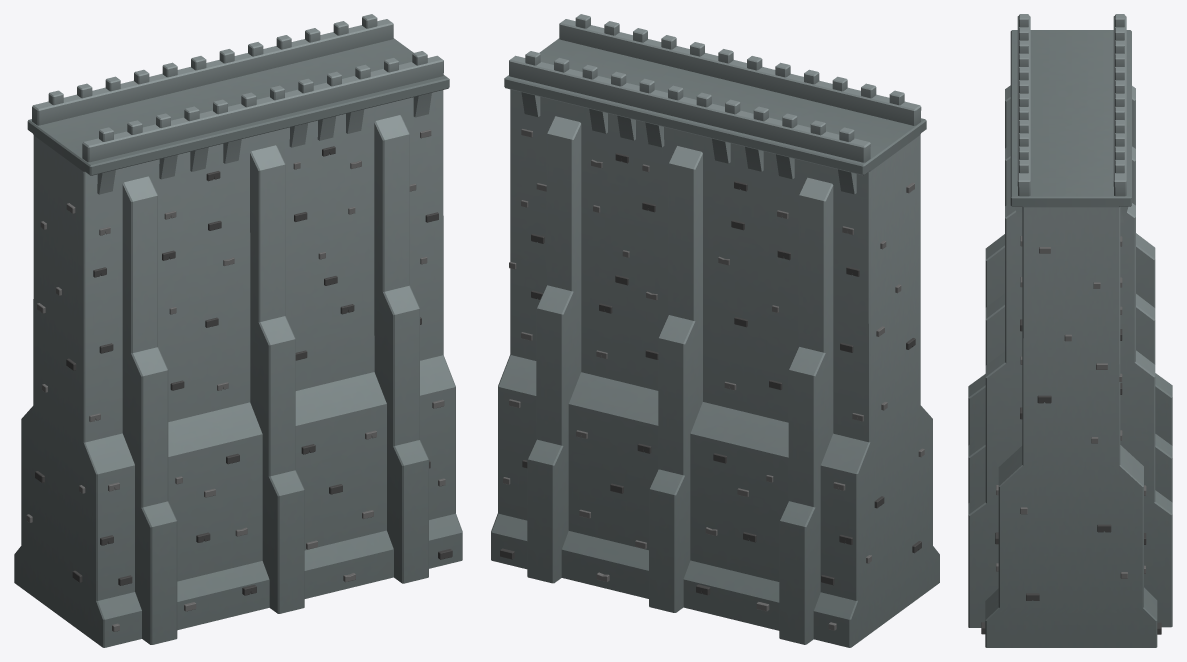
Rendered from ZLP_Build_C_3.FBX.
The picture shows the model from 3 angles, left to right: view 1: azimuth 30°, elevation 25°; view 2: azimuth 150°, elevation 25°; view 3: azimuth 270°, elevation 25°; orthographic projection. The views are drawn at different scales.
Visible parts, largest first — view 1: ZLP_Build_C_3; view 2: ZLP_Build_C_3; view 3: ZLP_Build_C_3.
Part boxes in pixels (x1=…): ZLP_Build_C_3: x1=14, y1=14, x2=462, y2=647; ZLP_Build_C_3: x1=491, y1=14, x2=939, y2=647; ZLP_Build_C_3: x1=968, y1=14, x2=1172, y2=647.
Bounding box in the file's own units: 2436 × 3170 × 1236.
